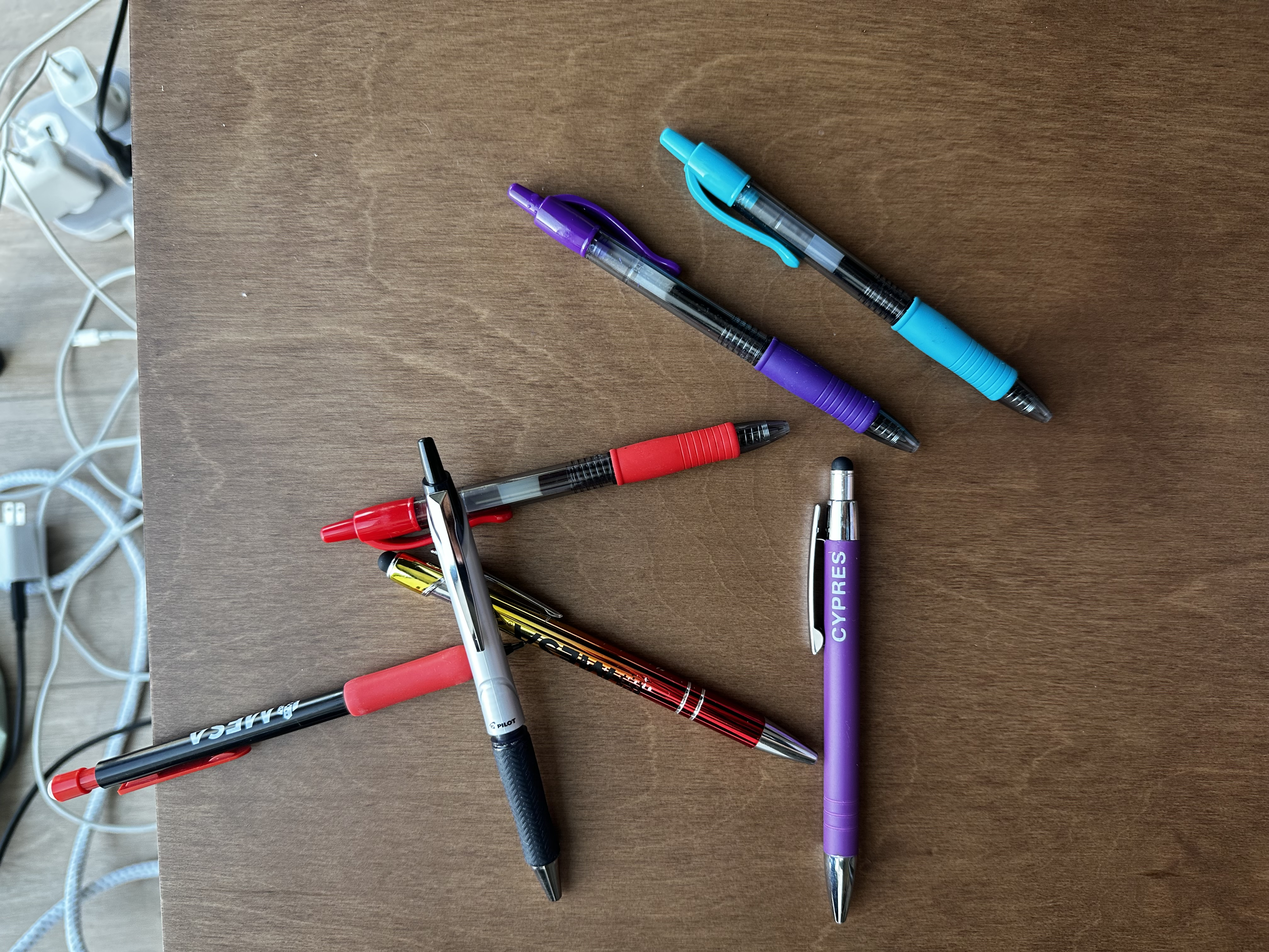Blue Pen: (659, 122, 1054, 420)
Cypres Pen Purple: (807, 454, 862, 923)
MESA Multicolored pen: (376, 551, 819, 775)
Purple Pen: (503, 177, 923, 452)
Red Mechanical Pencil: (47, 640, 471, 802)
Red Pen: (317, 410, 792, 549)
Silver Pen: (414, 433, 564, 901)
